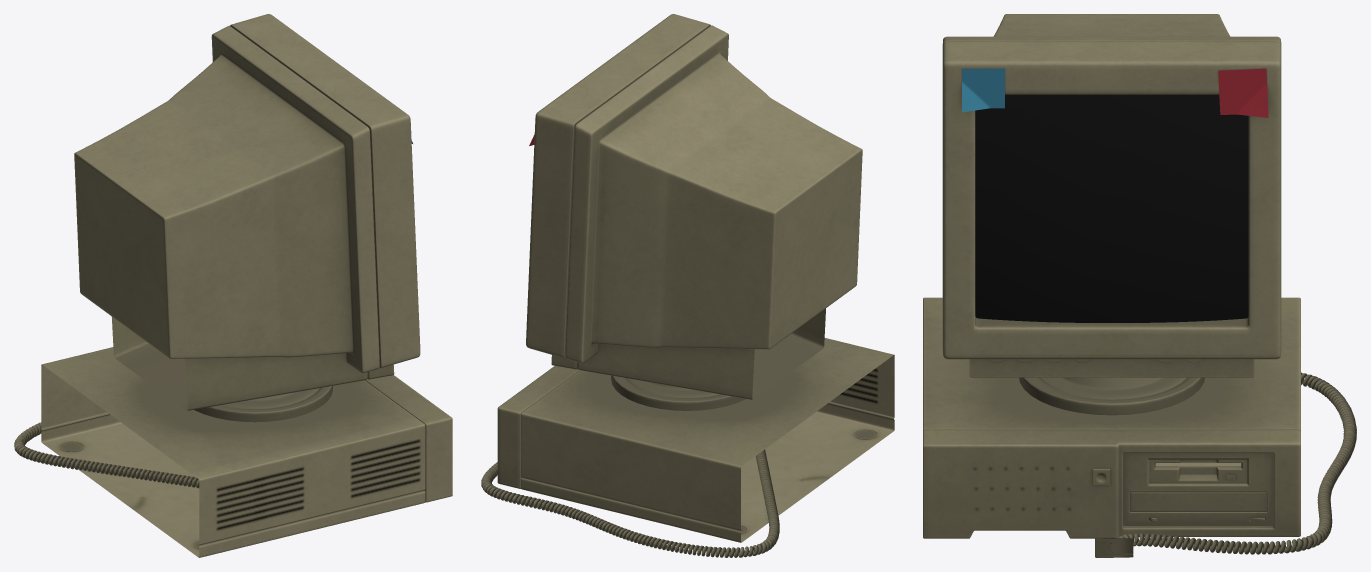
3 views of the same model, side by side, from view 1: azimuth 30°, elevation 25°; view 2: azimuth 150°, elevation 25°; view 3: azimuth 270°, elevation 25° (orthographic). The views are drawn at different scales.
Parts seen in each view (by area): view 1: PC; view 2: PC; view 3: PC.
Part boxes in pixels (box(x1,y1,x2,y2)): PC: box(14, 14, 452, 557); PC: box(481, 14, 894, 557); PC: box(923, 14, 1356, 557).
Size of the model in its own units: 0.4026 by 0.4849 by 0.4103.
2 materials, 2 textured.
